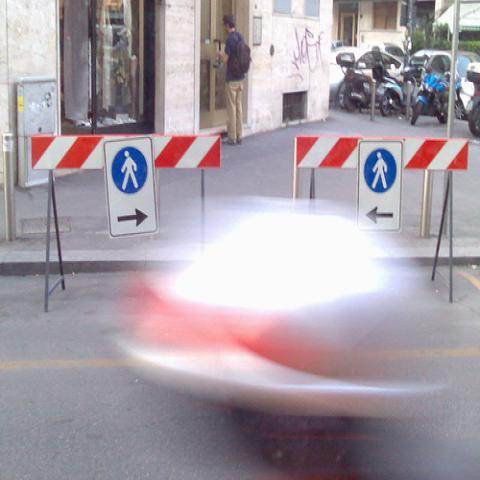car: (410, 50, 480, 121), (356, 51, 413, 82)
motorcycle: (336, 54, 404, 117), (409, 52, 450, 127), (466, 62, 479, 138)
